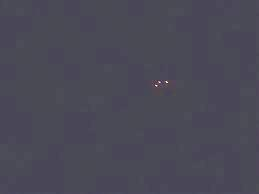Plane: (143, 73, 176, 92)
